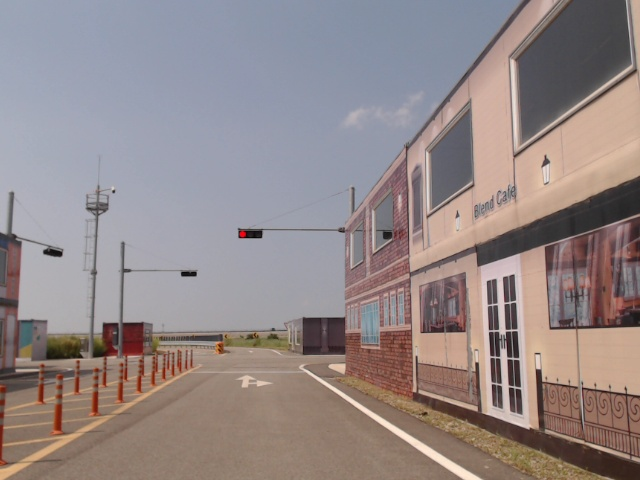red_3: (238, 230, 262, 239)
